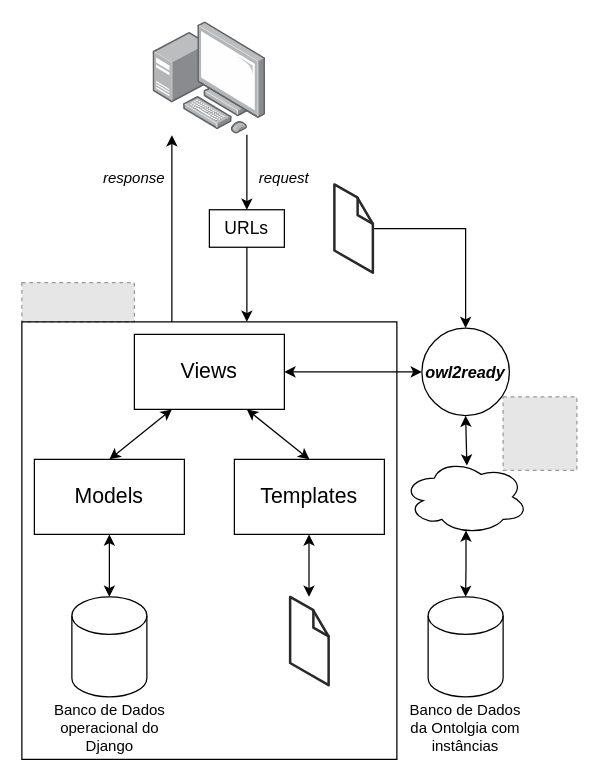
Some shapes in this 599 by 781 pixel diagram are drawn without their labels. Grey dashed boxes stand in for pictures. The shapes that lost their labels are listed below. From the top down, each one's box as (x1, y1, x2, y2) in pixels, then its label:
(333, 183, 373, 273): Declaração da Ontologia (.owl)
(402, 458, 528, 534): Reasoner
(289, 596, 329, 685): Páginas em HTML + CSS
